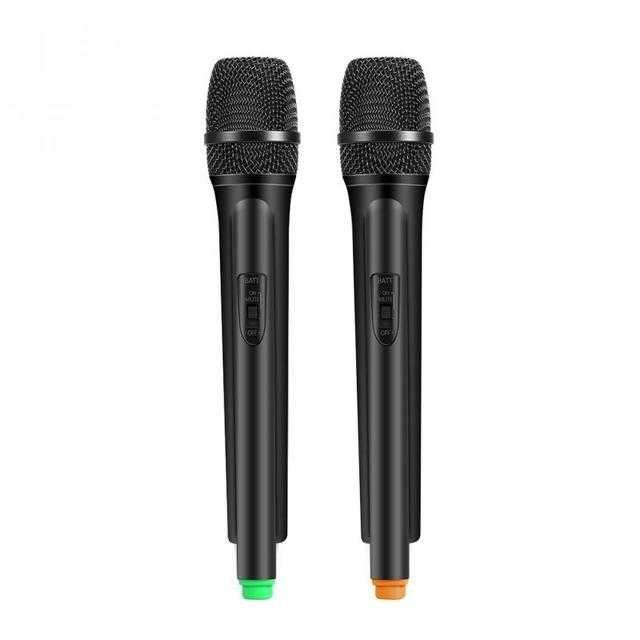microphone: (205, 56, 299, 584), (343, 59, 428, 563)
